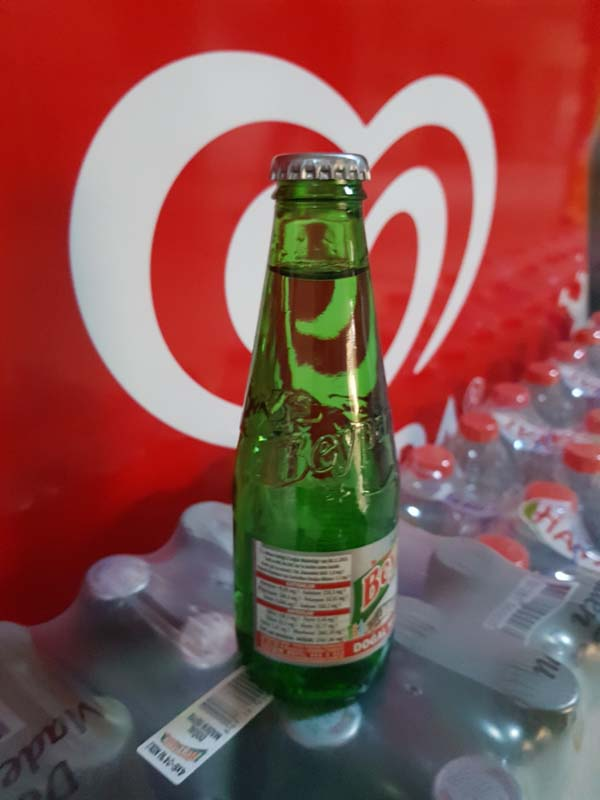beypazarimadensuyu: (225, 136, 409, 707)
